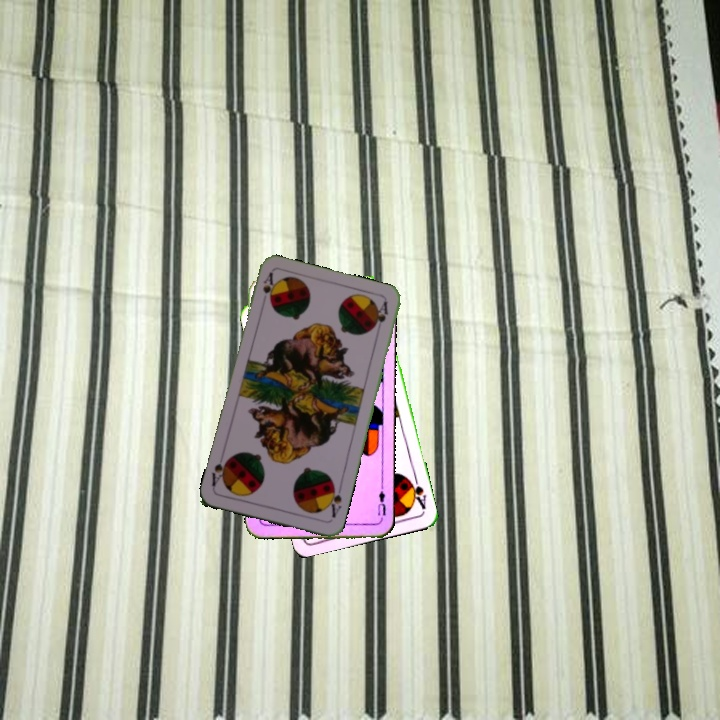EU: (374, 487, 388, 523)
SA: (405, 473, 429, 512), (323, 480, 344, 520), (259, 268, 277, 305)
